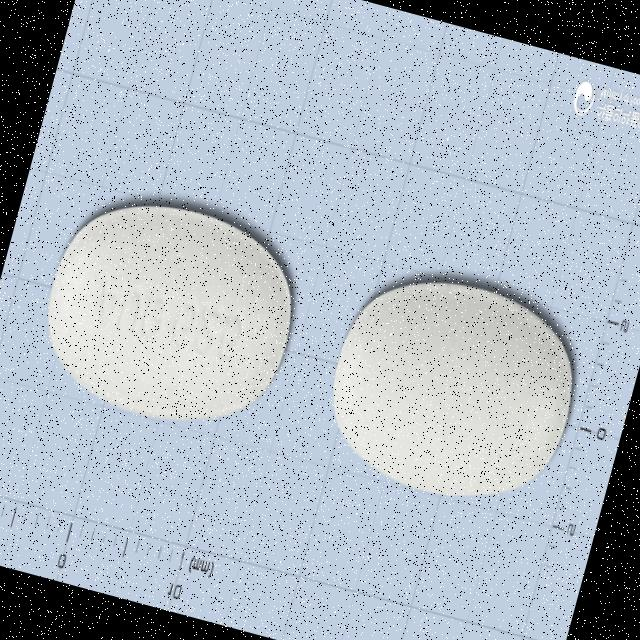Ilsung Augmentin: (25, 179, 314, 448), (311, 260, 594, 522)
